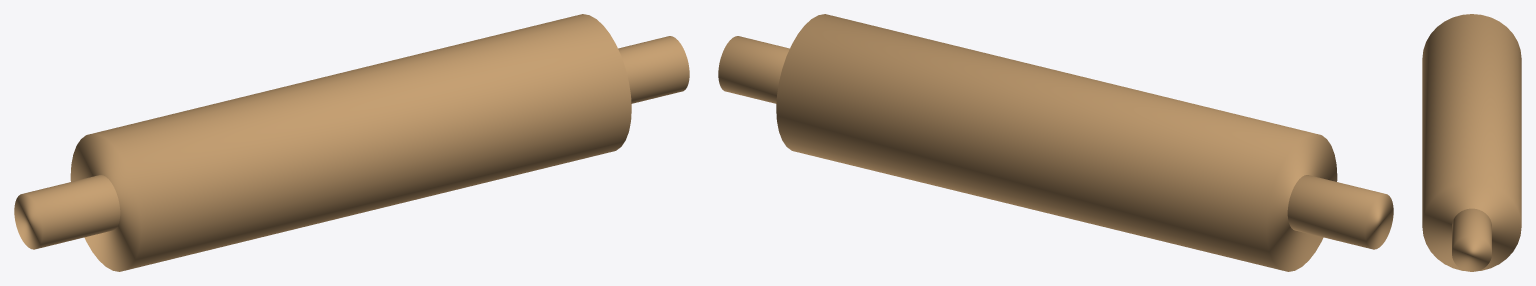
Rendered from rollingpin.fbx.
The picture shows the model from 3 angles, left to right: view 1: azimuth 30°, elevation 25°; view 2: azimuth 150°, elevation 25°; view 3: azimuth 270°, elevation 25°; orthographic projection. The views are drawn at different scales.
Visible parts, largest first — view 1: Cylinder; view 2: Cylinder; view 3: Cylinder.
Boxes of the visible parts, x1,y1,x2,y2 form: Cylinder: (14,14,689,271); Cylinder: (718,14,1393,271); Cylinder: (1422,14,1521,271).
Bounding box in the file's own units: 1055 × 200 × 200.
